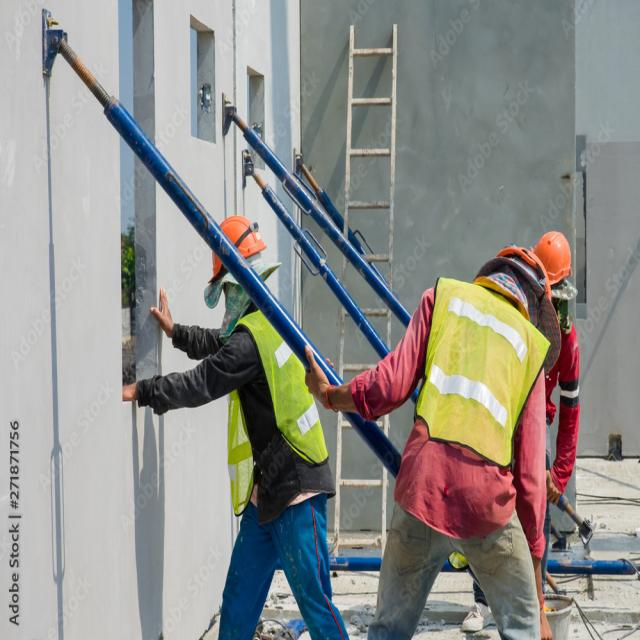helmet: (201, 205, 270, 286), (527, 225, 577, 292)
vest: (410, 271, 558, 486), (205, 309, 336, 502)
